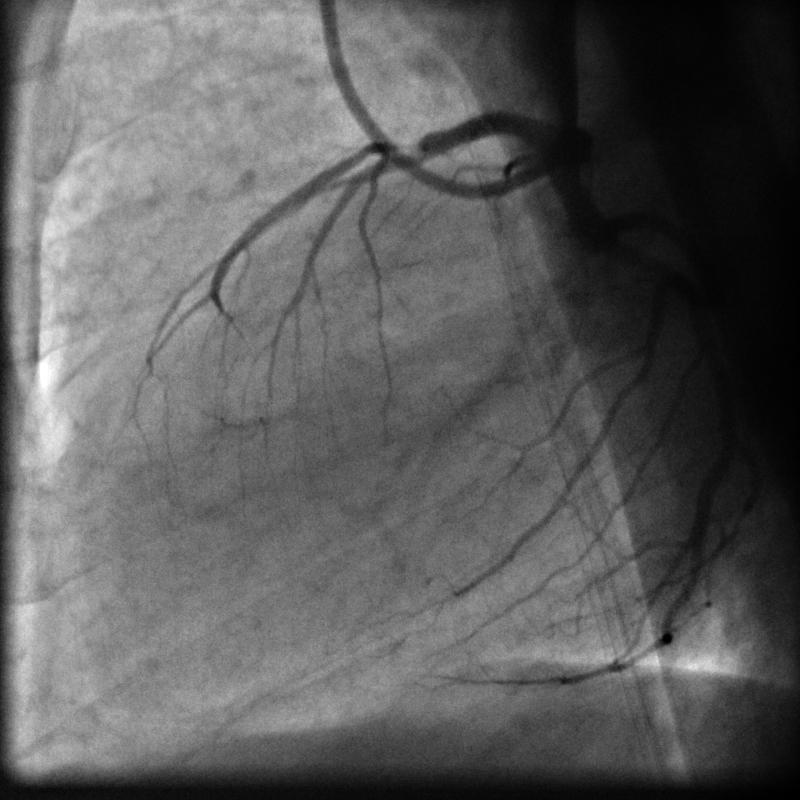Stenosis: (388, 127, 444, 184)
